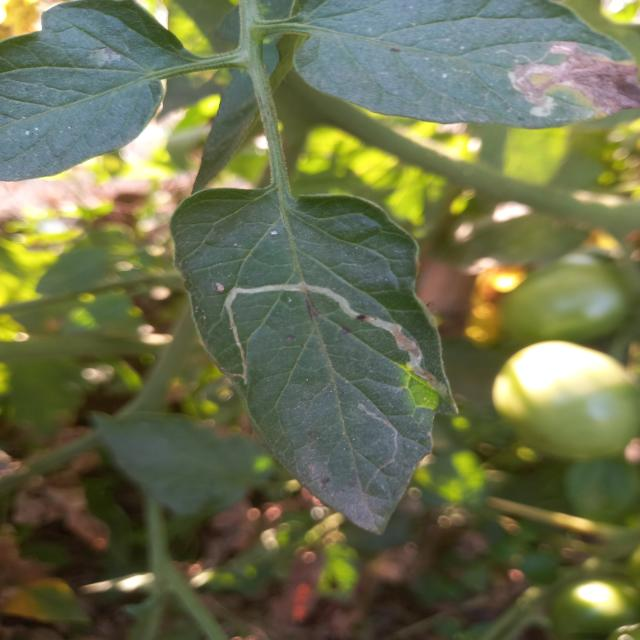Tuta absoluta: (217, 264, 460, 392)
